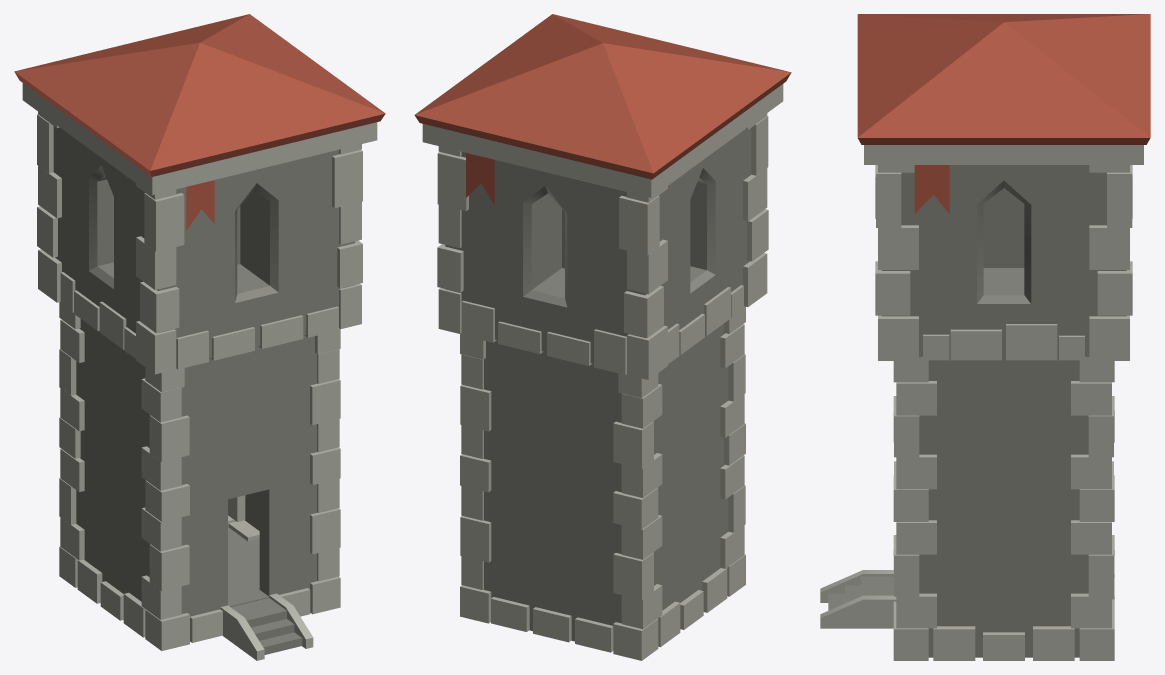
File: tower2.fbx
3 renders of one model, left to right at view 1: azimuth 30°, elevation 25°; view 2: azimuth 150°, elevation 25°; view 3: azimuth 270°, elevation 25°, orthographic. The views are drawn at different scales.
Visible parts, largest first — view 1: tower_lv2; view 2: tower_lv2; view 3: tower_lv2.
Part boxes in pixels (left/top/right/bottom): tower_lv2: left=14, top=14, right=385, bottom=660; tower_lv2: left=414, top=14, right=791, bottom=660; tower_lv2: left=820, top=14, right=1150, bottom=660.
Bounding box in the file's own units: 3.94 × 8.77 × 4.44.
